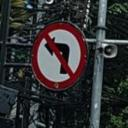NoVirarEsquerda: (32, 23, 85, 89)
